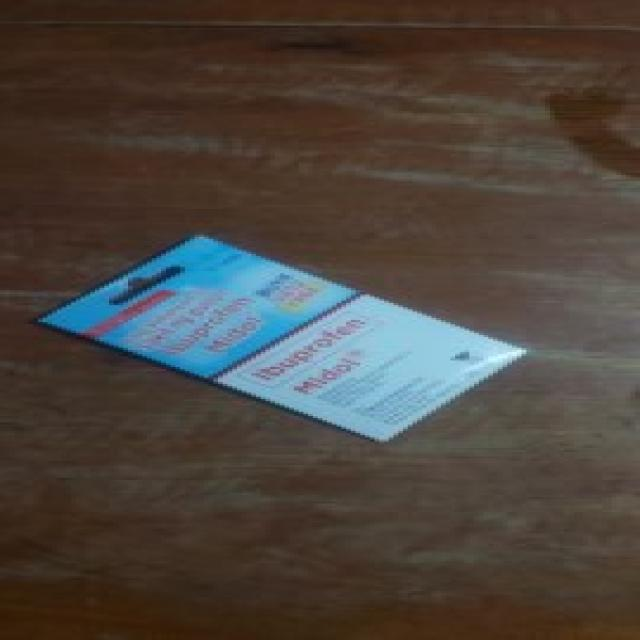Cacat: (29, 234, 522, 448)
